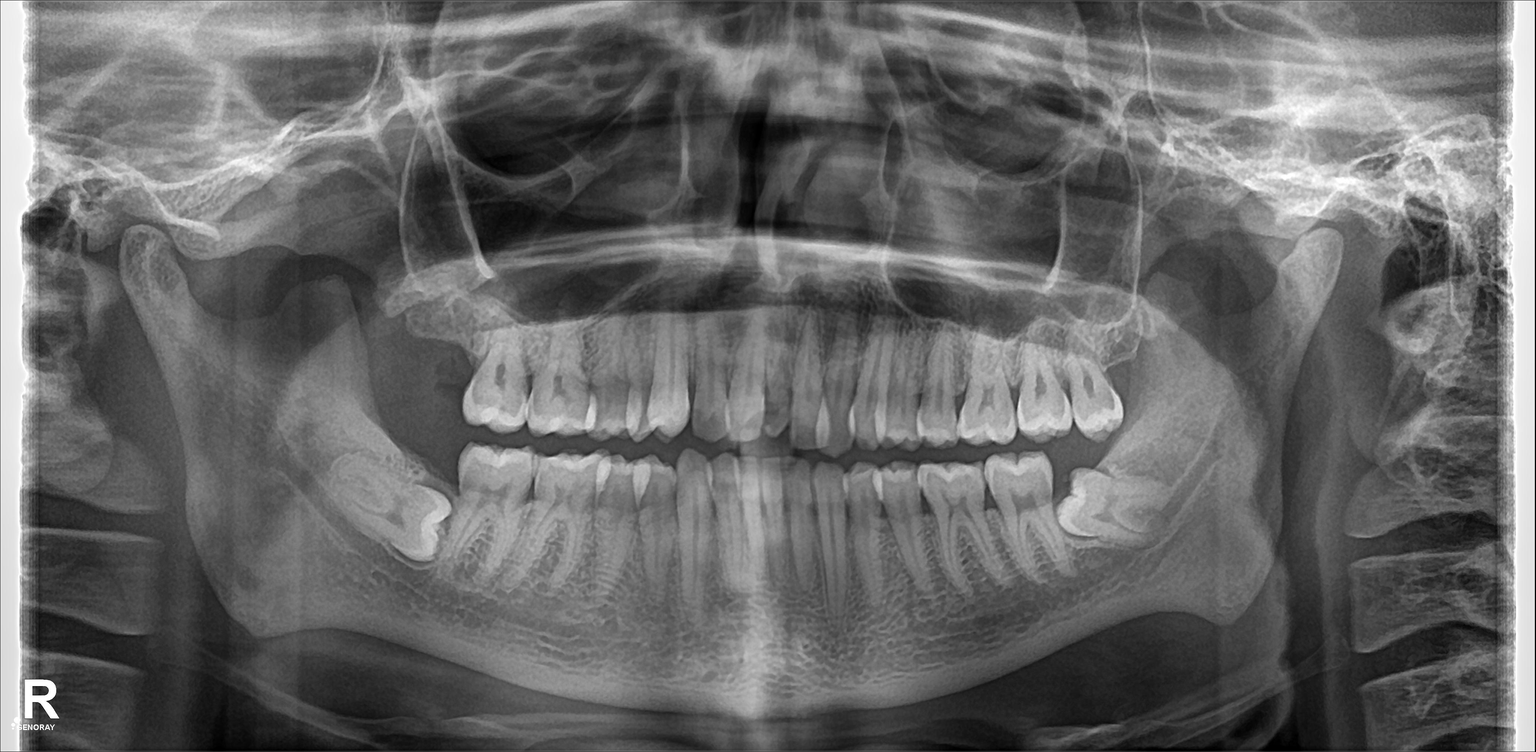Impacted Third Molar: (335, 478, 454, 566), (1071, 467, 1180, 542)
Missing Tooth: (372, 307, 425, 414), (430, 311, 469, 411), (1102, 329, 1143, 417)
